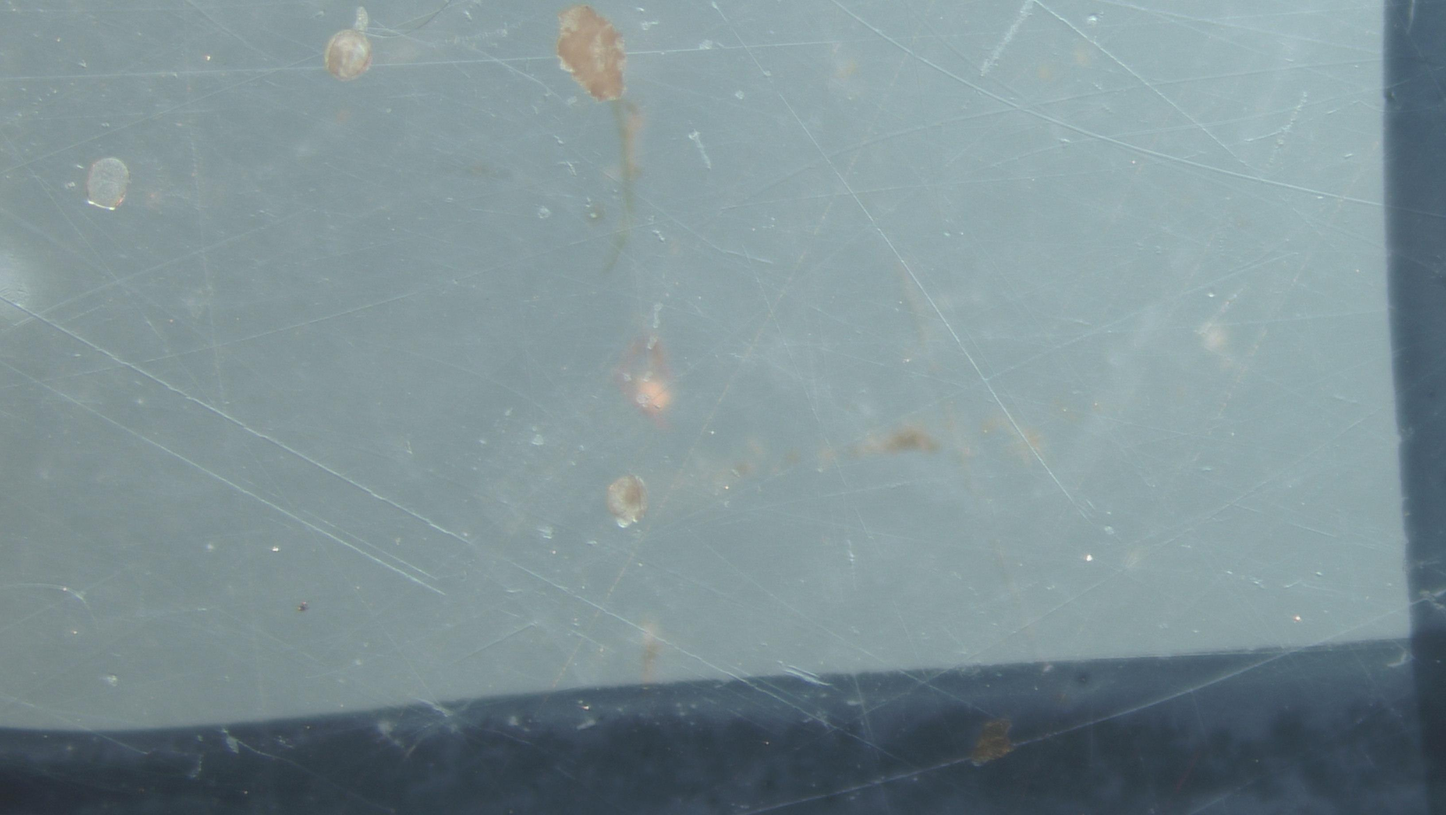dead: (86, 158, 130, 211)
live: (325, 30, 372, 80), (607, 475, 648, 528)
